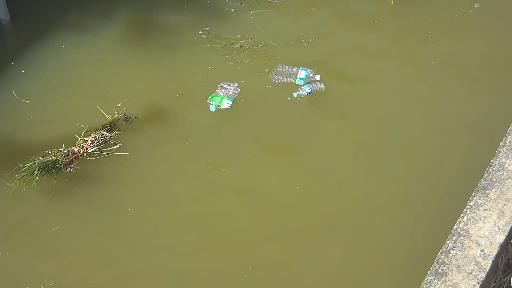plastic: (198, 75, 248, 114), (267, 63, 328, 86), (285, 80, 336, 99)
twig: (0, 93, 143, 202)
